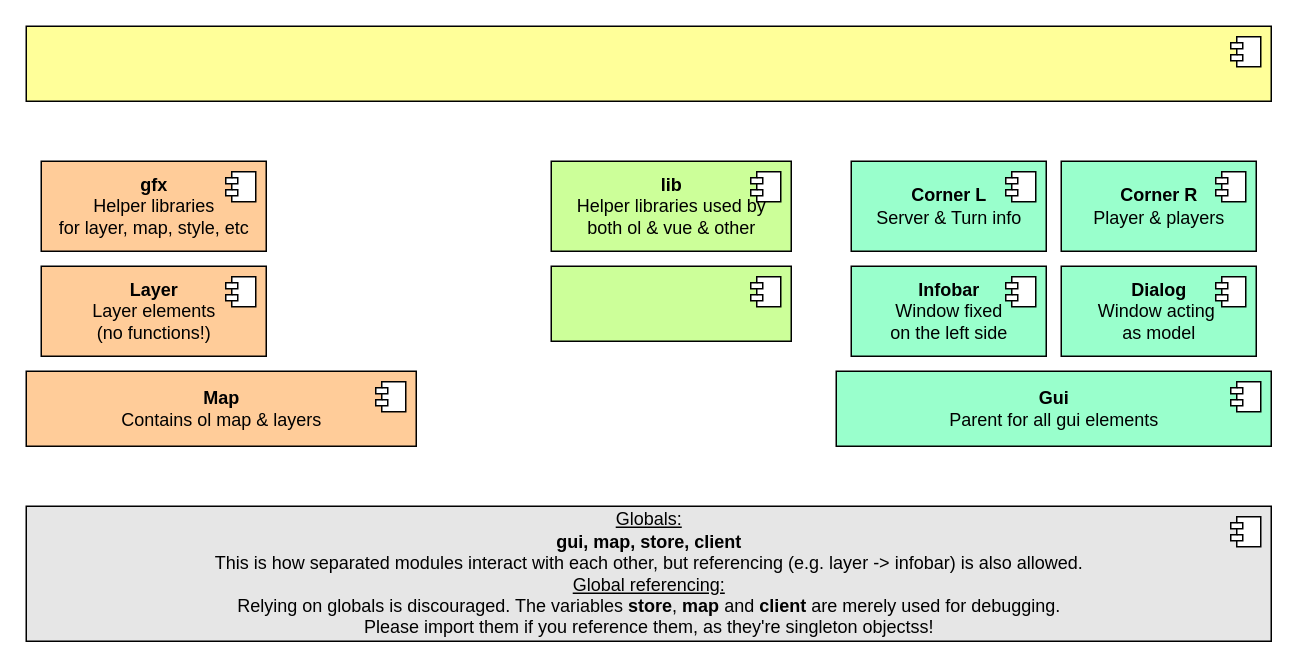
This 1298x668 diagram has some shape labels left out. The centre of each missing label's shape, as x and y in pixels:
"Overlay ol + vue popover on map" belongs at point (670, 303).
"Store stores/caches data model" belongs at point (648, 63).
